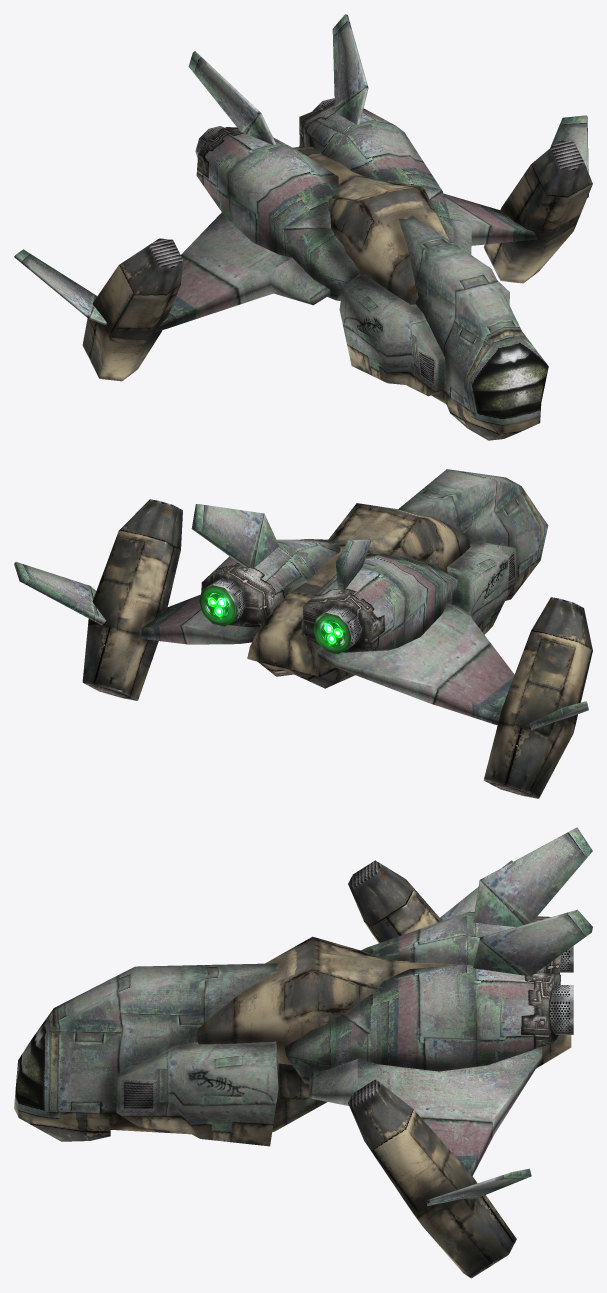
The model's file is ship2.glb.
3 renders of one model, top to bottom at view 1: azimuth 30°, elevation 25°; view 2: azimuth 150°, elevation 25°; view 3: azimuth 270°, elevation 25°, orthographic. The views are drawn at different scales.
Visible parts, largest first — view 1: Spaceship4; view 2: Spaceship4; view 3: Spaceship4.
Part boxes in pixels (x1,y1,x2,y2): Spaceship4: (14, 14, 592, 440); Spaceship4: (14, 469, 592, 798); Spaceship4: (14, 827, 592, 1278).
Bounding box in the file's own units: 24.1 × 10.55 × 18.82.
1 material, 1 textured.
